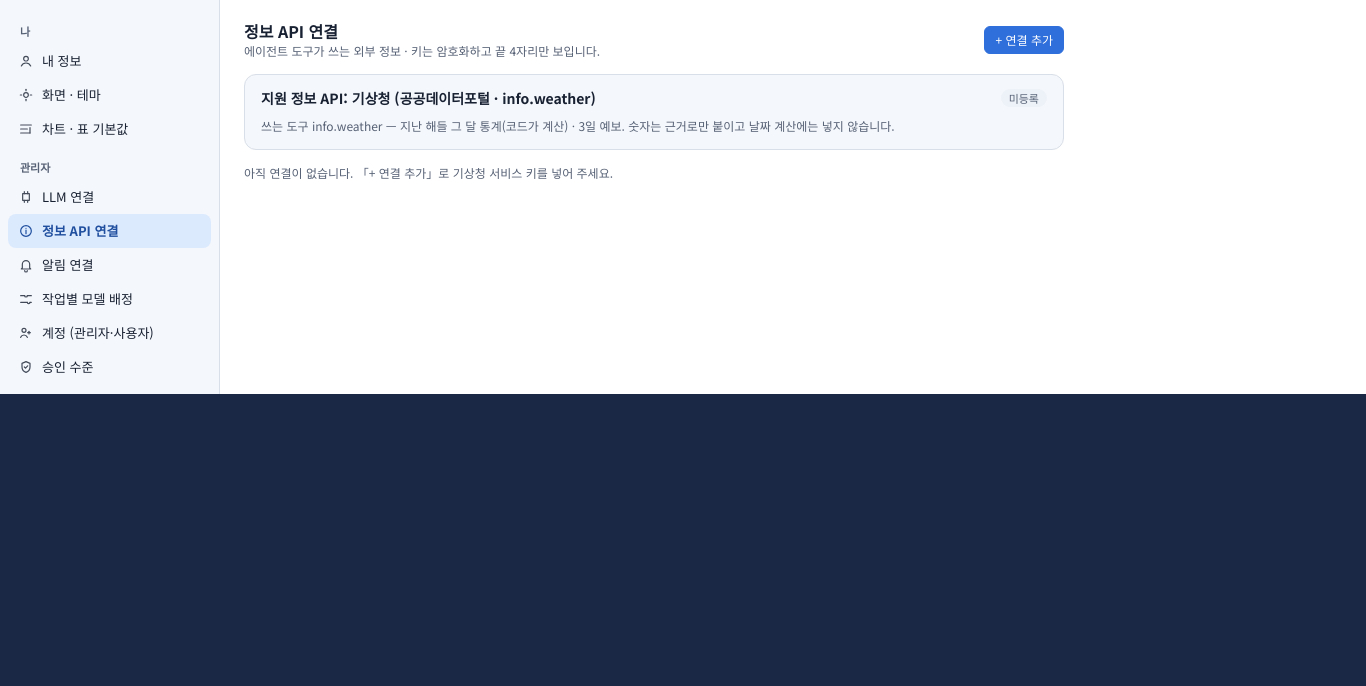
Scenario: the kind selector switches between the 기상청 form and the 범용 form
Step 1. Click the button "+ 연결 추가" → (1024, 40), box [984,26,1064,54]
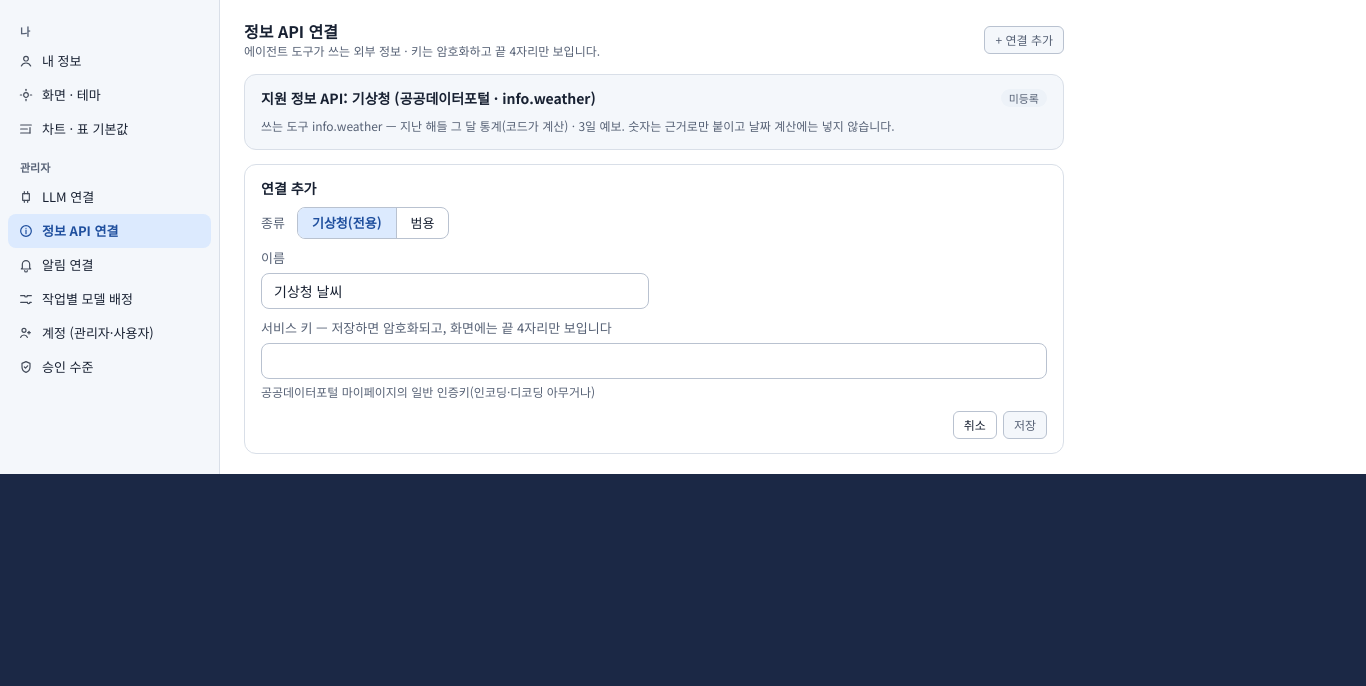
Check: the field labelled "설명" is not shown
Check: the radio button labelled "기상청(전용)" is checked, box [298,208,396,238]
Check: the password field labelled "서비스 키 — 저장하면 암호화되고, 화면에는 끝 4자리만 보입니다" is shown, box [261,343,1047,379]
Step 2. Click the radio button labelled "범용" → (422, 223), box [396,208,448,238]
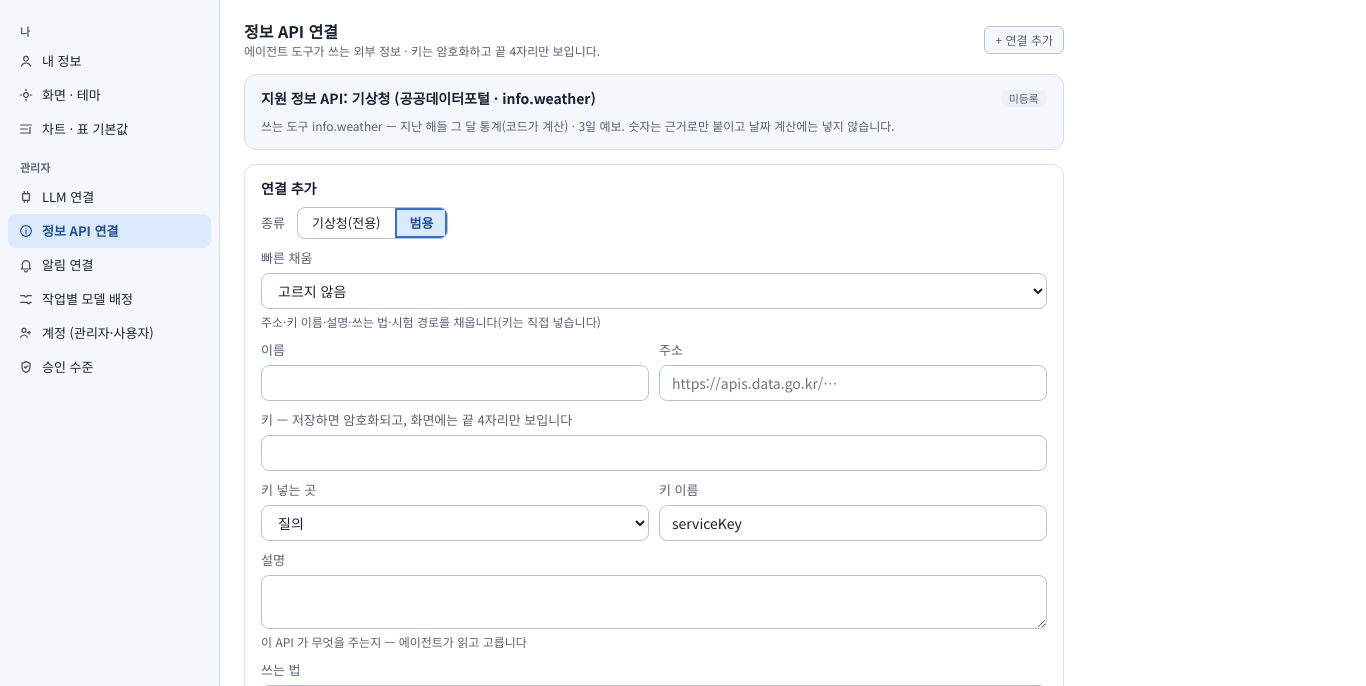
Check: the field labelled "주소" is shown, box [659,365,1047,401]
Check: the field labelled "키 이름" is shown, box [659,505,1047,541]
Check: the dropdown labelled "키 넣는 곳" is shown, box [261,505,649,541]
Step 3. Click the radio button labelled "기상청(전용)" → (346, 222), box [312,213,380,232]
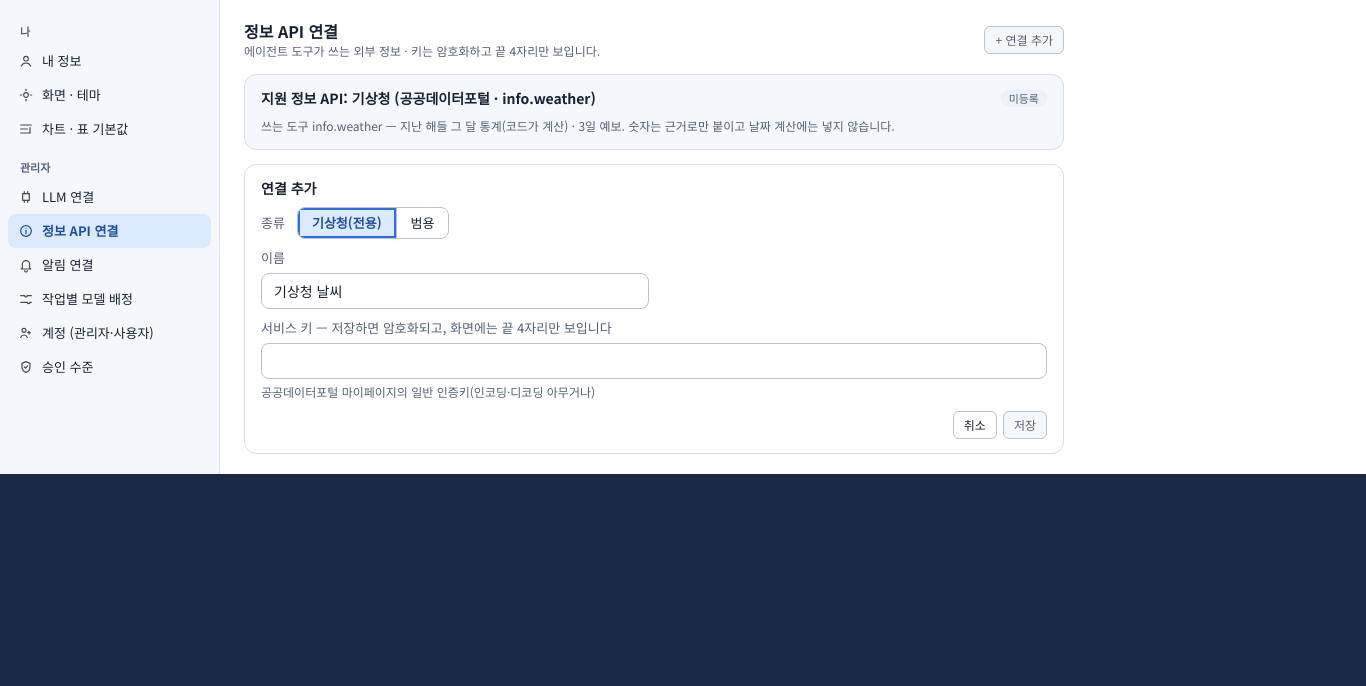
Check: the field labelled "이름" holds "기상청 날씨", box [261,273,649,309]
